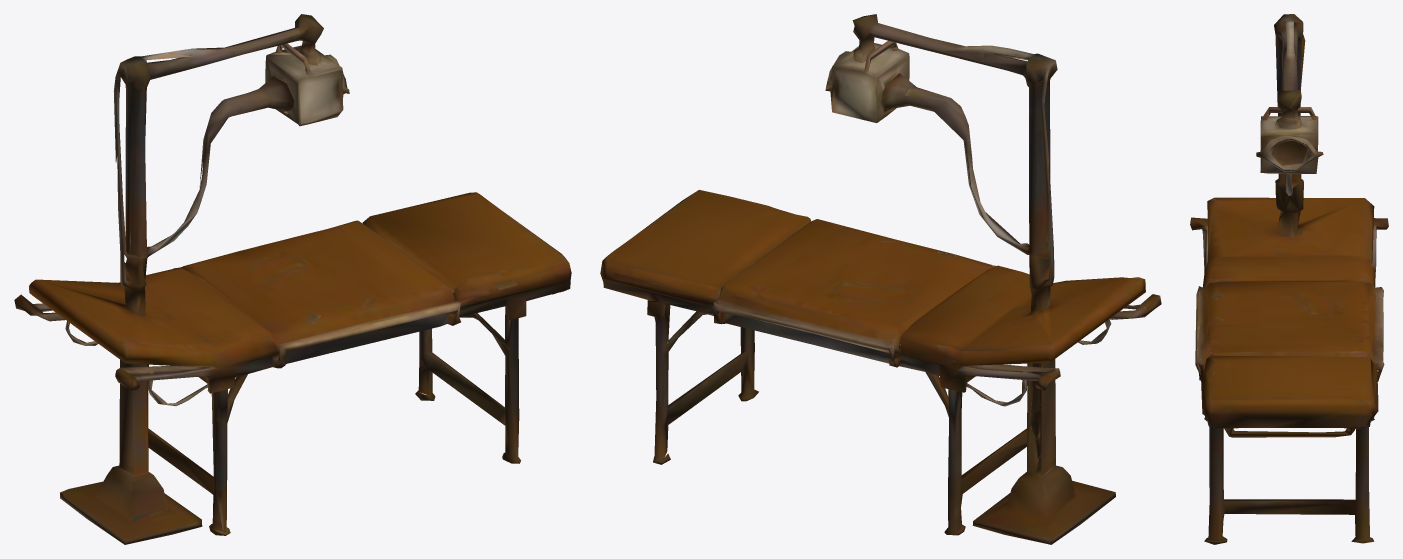
The model's file is rayos_x.movil.glb.
3 views of the same model, side by side, from view 1: azimuth 30°, elevation 25°; view 2: azimuth 150°, elevation 25°; view 3: azimuth 270°, elevation 25° (orthographic). The views are drawn at different scales.
Visible parts, largest first — view 1: geometry_0; view 2: geometry_0; view 3: geometry_0.
Boxes of the visible parts, x1,y1,x2,y2 form: geometry_0: [14, 14, 571, 544]; geometry_0: [600, 14, 1161, 544]; geometry_0: [1190, 14, 1388, 544].
Size of the model in its own units: 2 by 1.89 by 0.8834.
Materials: 1 (1 with a texture image).
